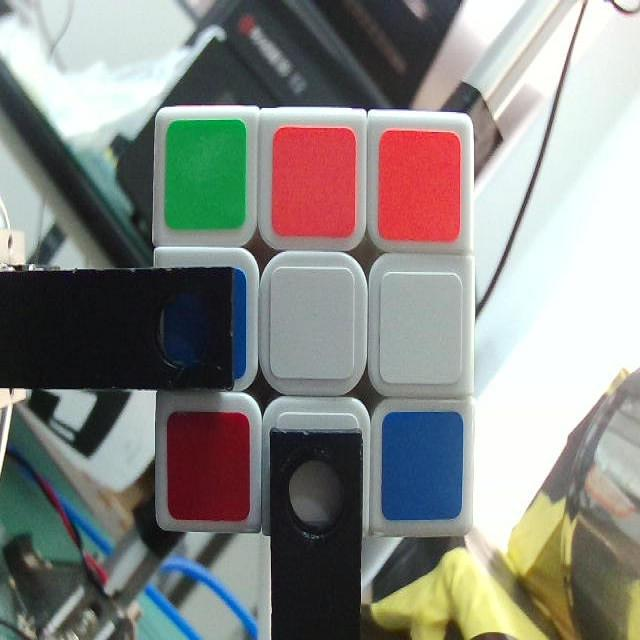b: (170, 268, 247, 380), (382, 413, 461, 519)
g: (166, 124, 244, 229)
o: (381, 128, 459, 248), (273, 128, 354, 235)
r: (169, 412, 250, 517)
w: (276, 412, 362, 525), (272, 268, 352, 380), (386, 271, 461, 377)
